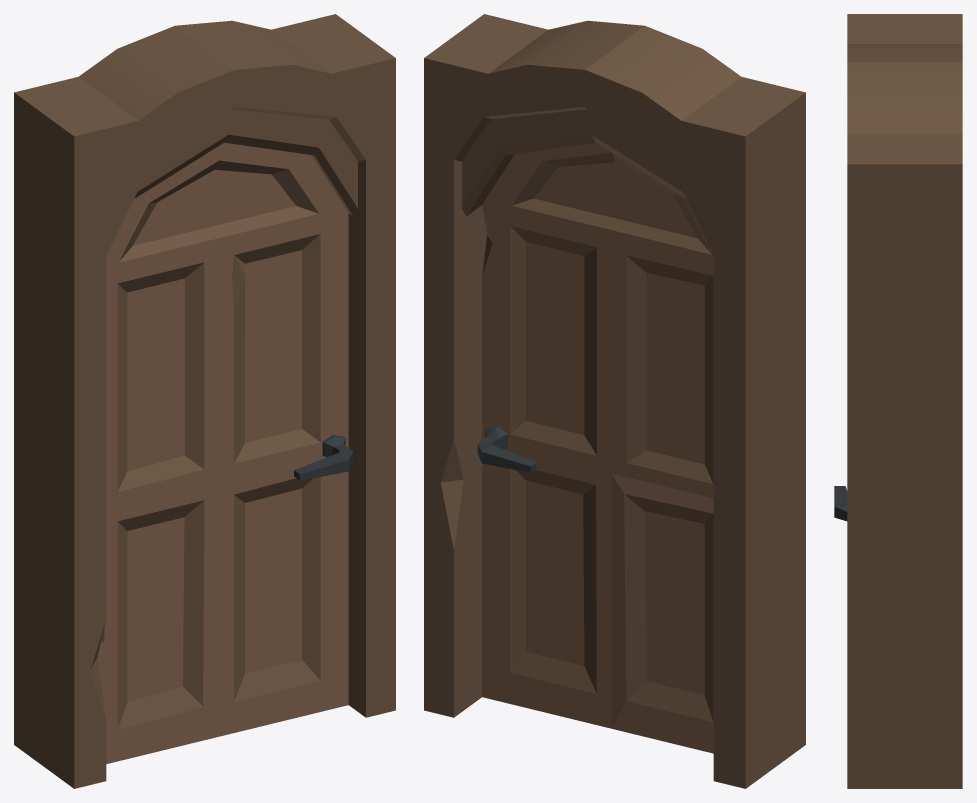
Rendered from SM_Bld_Village_Door_02.fbx.
3 views of the same model, side by side, from view 1: azimuth 30°, elevation 25°; view 2: azimuth 150°, elevation 25°; view 3: azimuth 270°, elevation 25° (orthographic). The views are drawn at different scales.
Parts seen in each view (by area): view 1: SM_Bld_Village_Door_Hinge_02, SM_Bld_Village_Door_02; view 2: SM_Bld_Village_Door_02, SM_Bld_Village_Door_Hinge_02; view 3: SM_Bld_Village_Door_02, SM_Bld_Village_Door_Hinge_02.
Part boxes in pixels (x1=…): SM_Bld_Village_Door_Hinge_02: x1=97, y1=142, x2=353, y2=763; SM_Bld_Village_Door_02: x1=14, y1=14, x2=395, y2=788; SM_Bld_Village_Door_02: x1=424, y1=14, x2=805, y2=788; SM_Bld_Village_Door_Hinge_02: x1=477, y1=142, x2=713, y2=753; SM_Bld_Village_Door_02: x1=847, y1=14, x2=962, y2=788; SM_Bld_Village_Door_Hinge_02: x1=834, y1=486, x2=847, y2=521.
Size of the model in its own units: 127 by 257 by 45.93.
